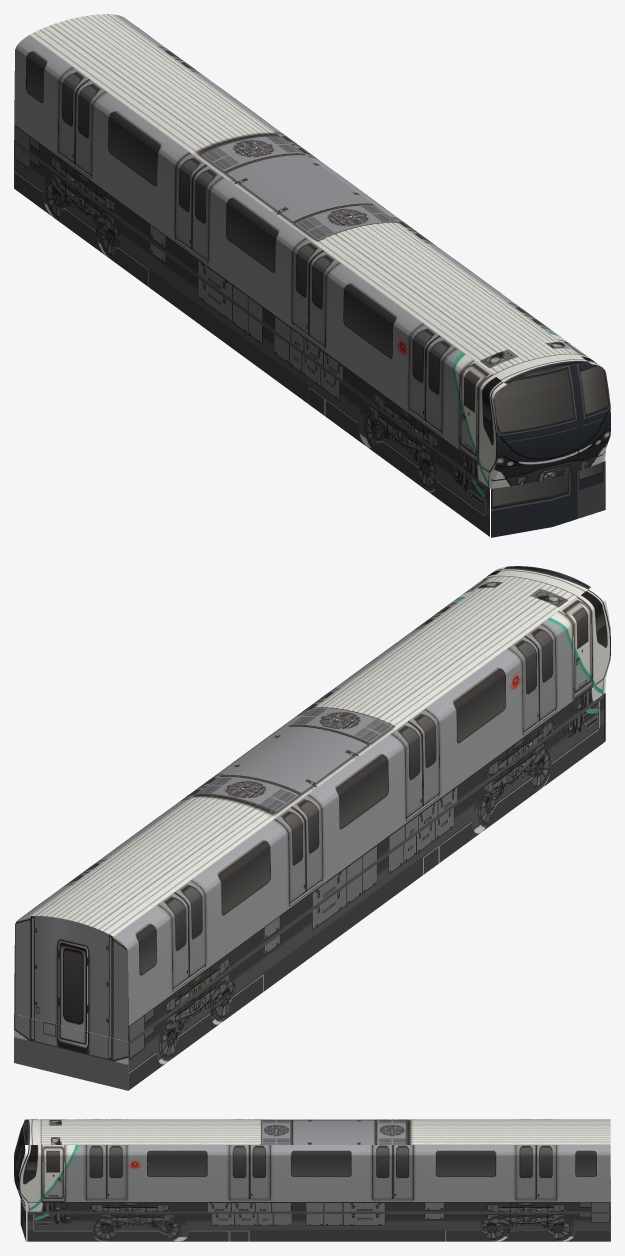
The model's file is car1.glb.
3 views of the same model, one above another, from view 1: azimuth 30°, elevation 25°; view 2: azimuth 150°, elevation 25°; view 3: azimuth 270°, elevation 25° (orthographic). The views are drawn at different scales.
Visible parts, largest first — view 1: tokyu-2020-car1; view 2: tokyu-2020-car1; view 3: tokyu-2020-car1.
Boxes of the visible parts, x1,y1,x2,y2 form: tokyu-2020-car1: (14,14,610,537); tokyu-2020-car1: (14,566,610,1090); tokyu-2020-car1: (14,1119,610,1241).
Size of the model in its own units: 2.78 by 3.62 by 20.47.
Materials: 9 (8 with a texture image).
